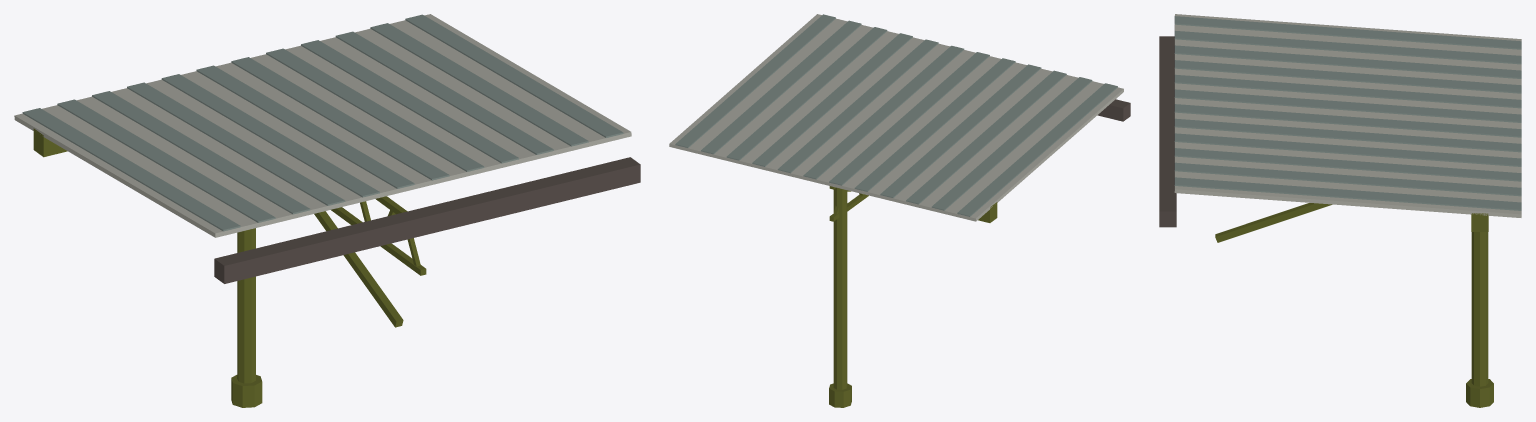
The model's file is SM_KitMarquesina_v1_LOD0.fbx.
The picture shows the model from 3 angles, left to right: view 1: azimuth 30°, elevation 25°; view 2: azimuth 150°, elevation 25°; view 3: azimuth 270°, elevation 25°; orthographic projection. The views are drawn at different scales.
Visible parts, largest first — view 1: SM_bloques.kit_marquesina_v1_LOD0; view 2: SM_bloques.kit_marquesina_v1_LOD0; view 3: SM_bloques.kit_marquesina_v1_LOD0.
Boxes of the visible parts, x1,y1,x2,y2 form: SM_bloques.kit_marquesina_v1_LOD0: [14, 14, 640, 407]; SM_bloques.kit_marquesina_v1_LOD0: [669, 14, 1130, 407]; SM_bloques.kit_marquesina_v1_LOD0: [1159, 14, 1521, 407].
Bounding box in the file's own units: 5.98 × 4.8 × 5.23.
